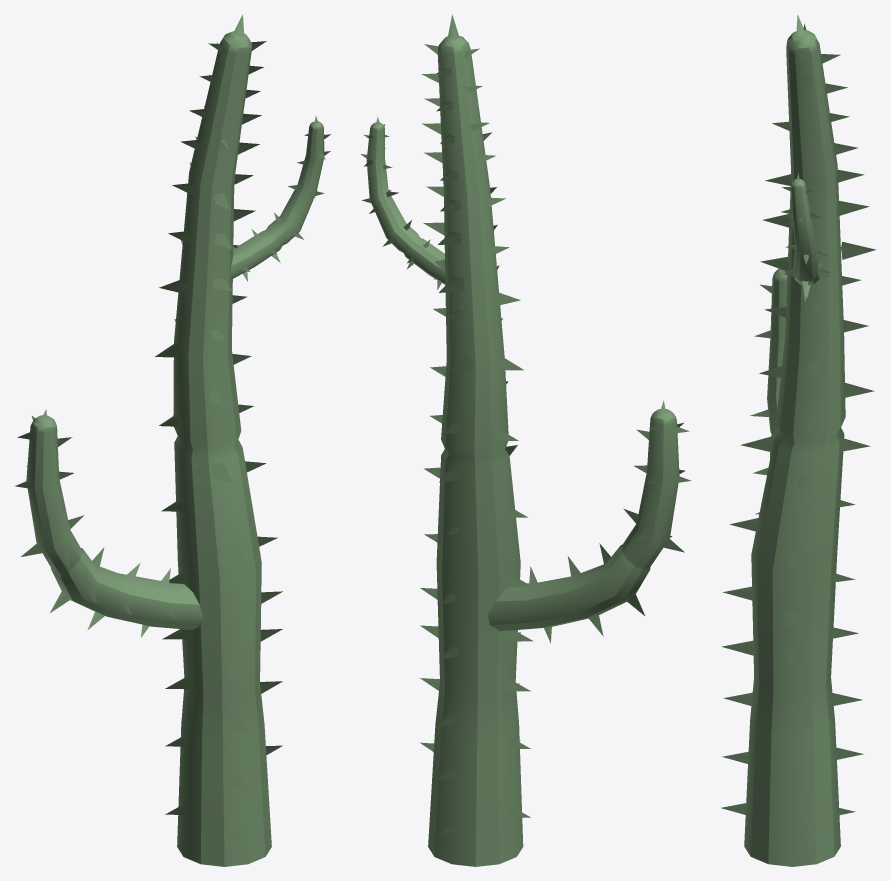
Rendered from Cactus_3.fbx.
3 renders of one model, left to right at view 1: azimuth 30°, elevation 25°; view 2: azimuth 150°, elevation 25°; view 3: azimuth 270°, elevation 25°, orthographic. The views are drawn at different scales.
Visible parts, largest first — view 1: cactus_, cactus_arm, cactus_arm_2; view 2: cactus_, cactus_arm, cactus_arm_2; view 3: cactus_, cactus_arm_2, cactus_arm.
Part boxes in pixels (x1,y1,x2,y2): cactus_: (155,14,282,866); cactus_arm: (15,409,203,637); cactus_arm_2: (230,116,330,281); cactus_: (420,14,533,866); cactus_arm: (487,400,691,643); cactus_arm_2: (361,116,445,289); cactus_: (721,15,876,866); cactus_arm_2: (781,173,831,301); cactus_arm: (750,268,787,514).
Bounding box in the file's own units: 2.01 × 4.91 × 0.8278.
